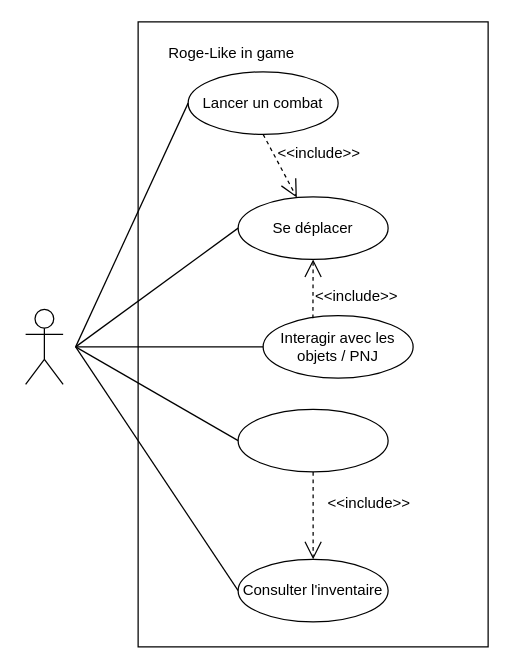
The diagram is 510 pixels wide and 669 high, and some of its shapes have lost their labels. Each missing label, with the centre of its shape:
"Joueur" belongs at point (43, 346).
"Utiliser un objet" belongs at point (312, 440).
